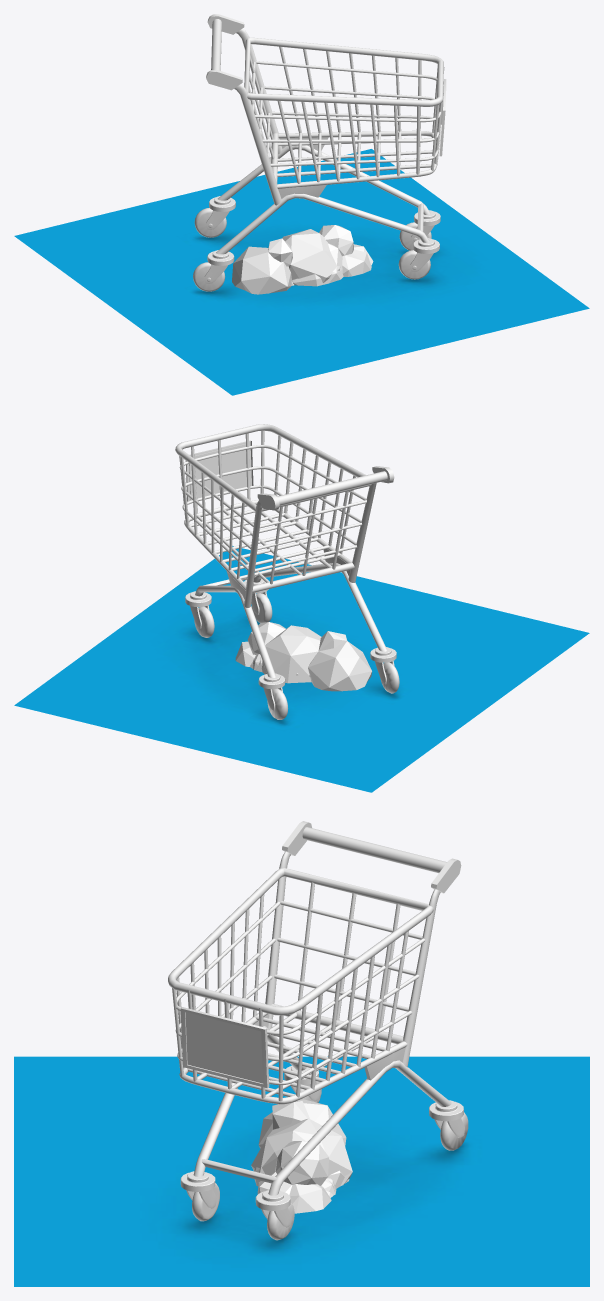
Rendered from trolley.fbx.
The picture shows the model from 3 angles, top to bottom: view 1: azimuth 30°, elevation 25°; view 2: azimuth 150°, elevation 25°; view 3: azimuth 270°, elevation 25°; orthographic projection. The views are drawn at different scales.
Visible parts, largest first — view 1: Floor_tralley, shop_tralley_MODEL, pCLD5, pCLD2; view 2: Floor_tralley, shop_tralley_MODEL, pCLD5, pCLD2; view 3: Floor_tralley, shop_tralley_MODEL, pCLD5, pCLD2.
Part boxes in pixels (box(x1,y1,x2,y2)): Floor_tralley: box(14, 149, 589, 395); shop_tralley_MODEL: box(193, 14, 446, 291); pCLD5: box(232, 229, 373, 294); pCLD2: box(292, 225, 371, 286); Floor_tralley: box(14, 546, 589, 792); shop_tralley_MODEL: box(175, 424, 399, 719); pCLD5: box(235, 625, 372, 691); pCLD2: box(247, 622, 310, 676); Floor_tralley: box(14, 1056, 589, 1286); shop_tralley_MODEL: box(168, 821, 468, 1240); pCLD5: box(251, 1099, 352, 1213); pCLD2: box(254, 1141, 349, 1194).
Size of the model in its own units: 3.46 by 2.44 by 3.66.
3 materials, 1 textured.
